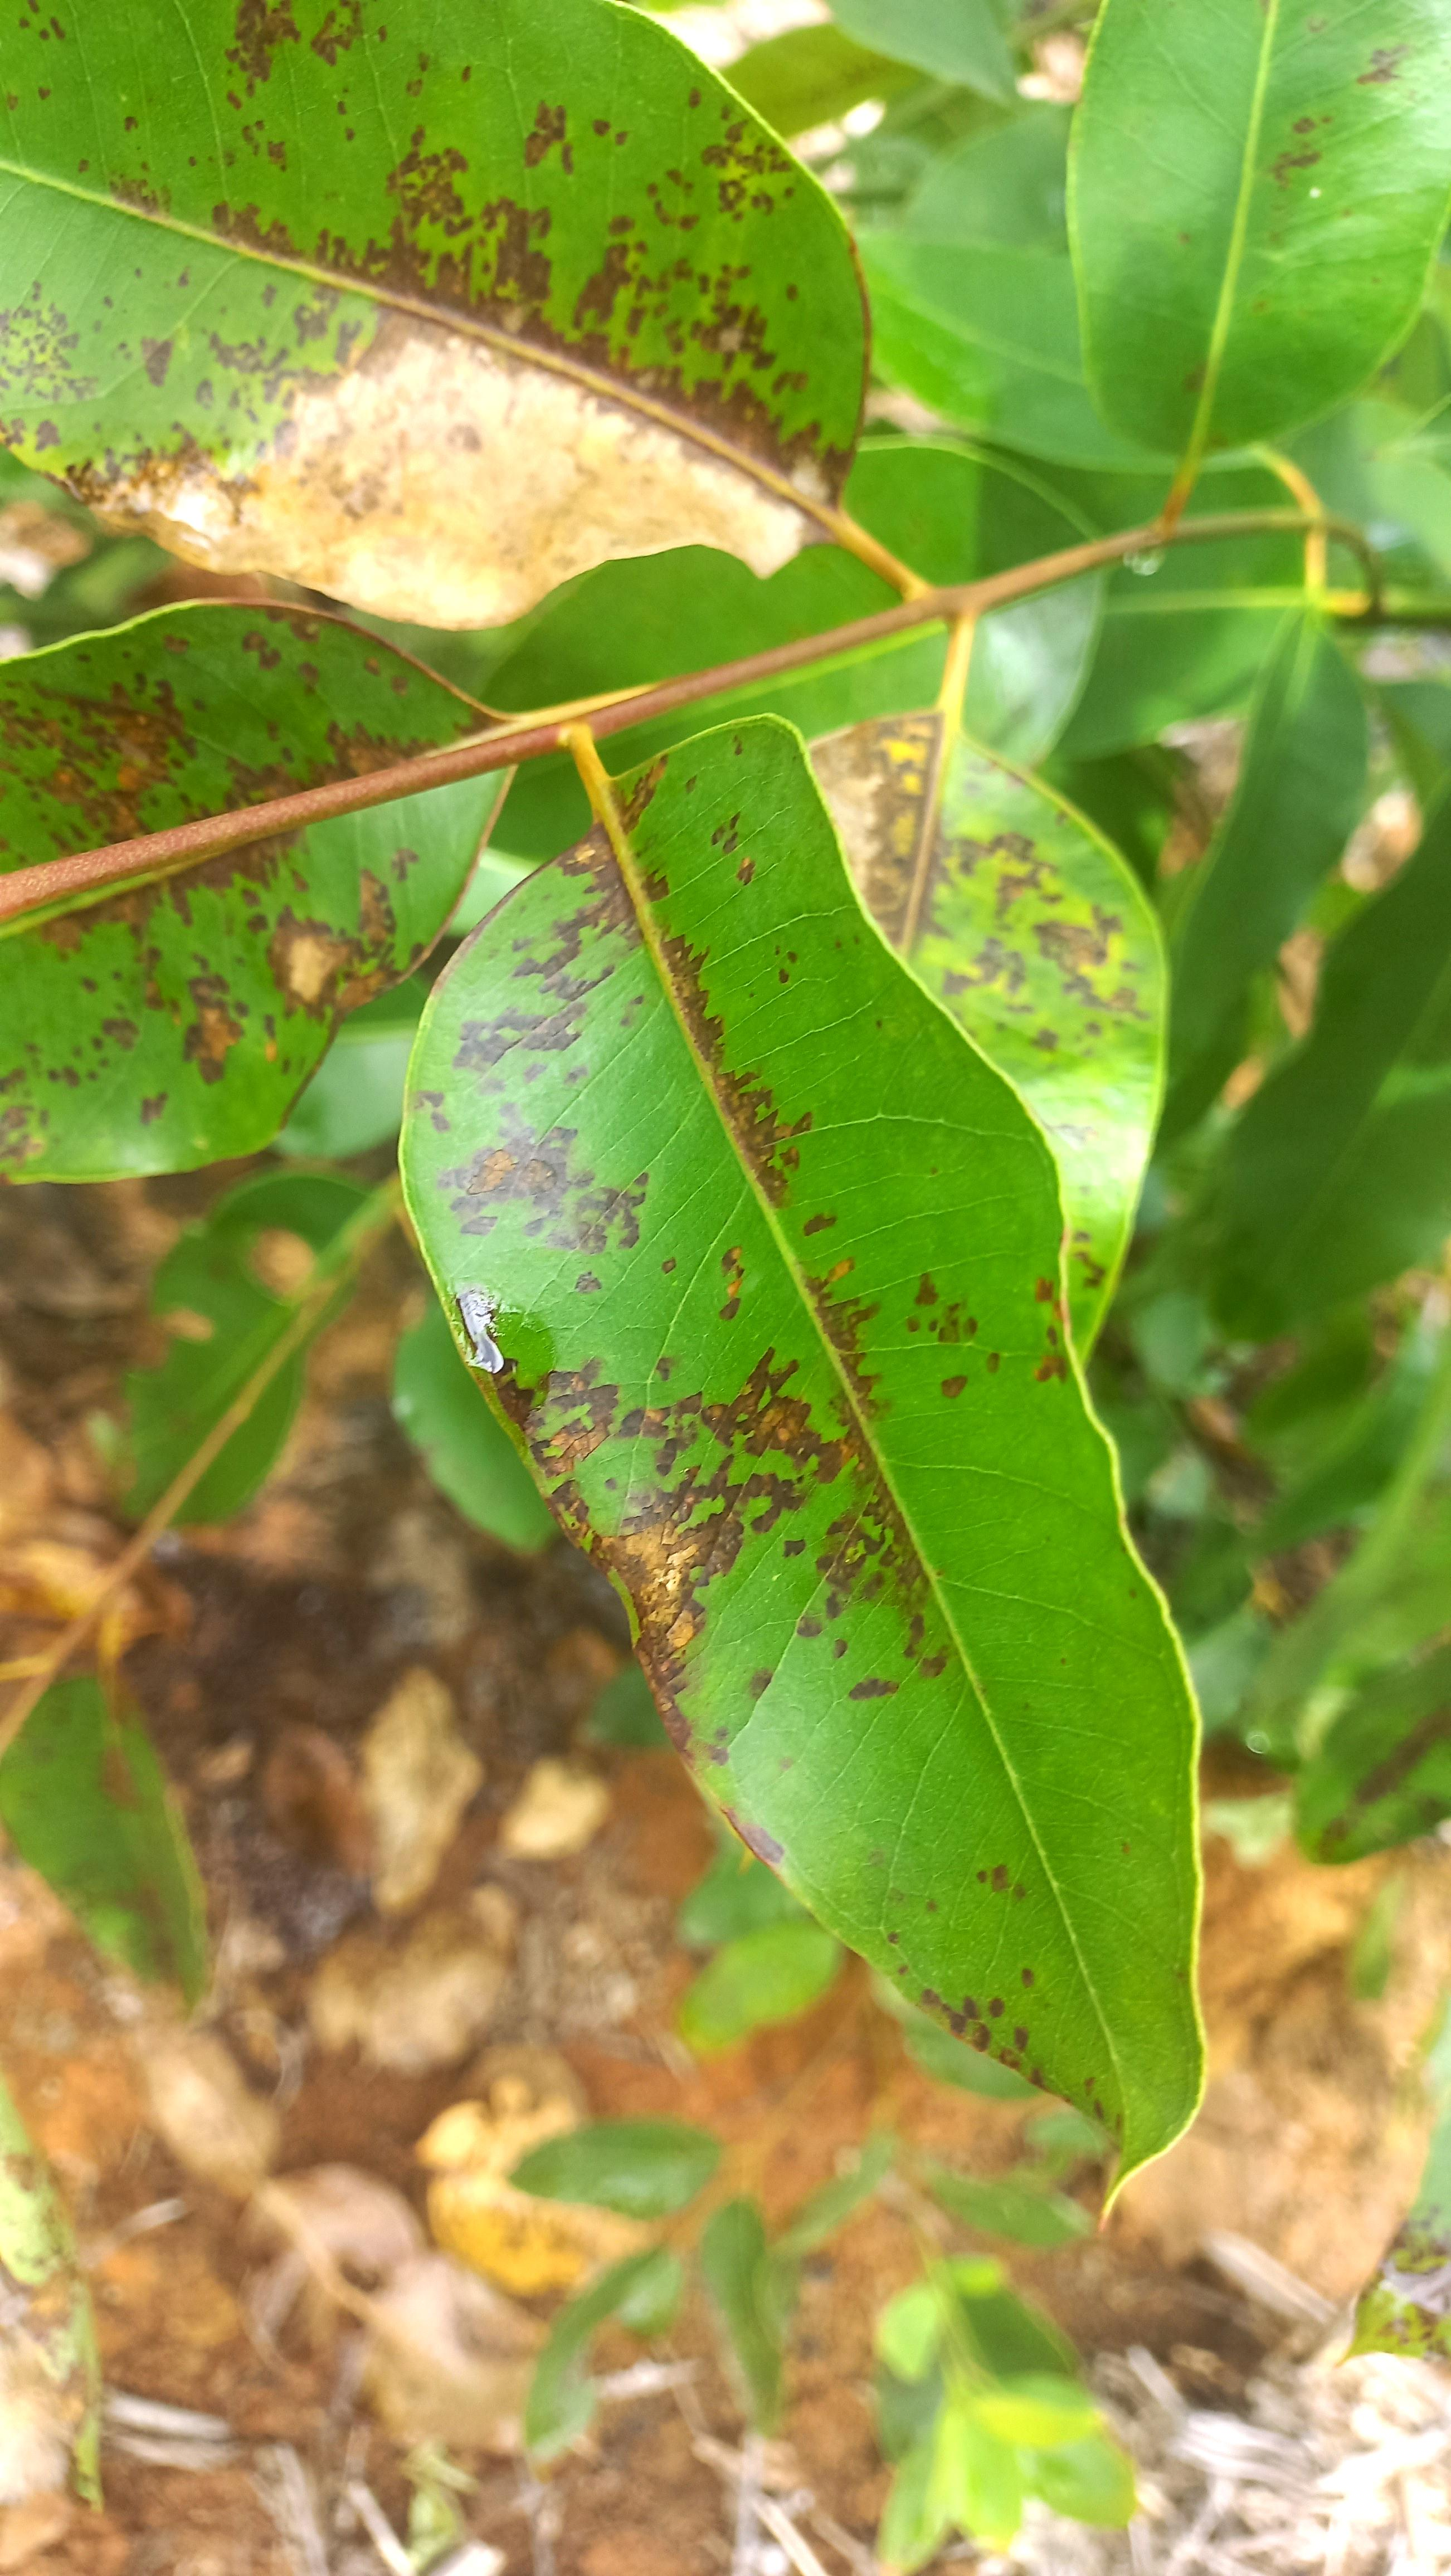Xanthomonas: (421, 821, 1113, 1856), (0, 0, 881, 630), (0, 692, 391, 1290)
